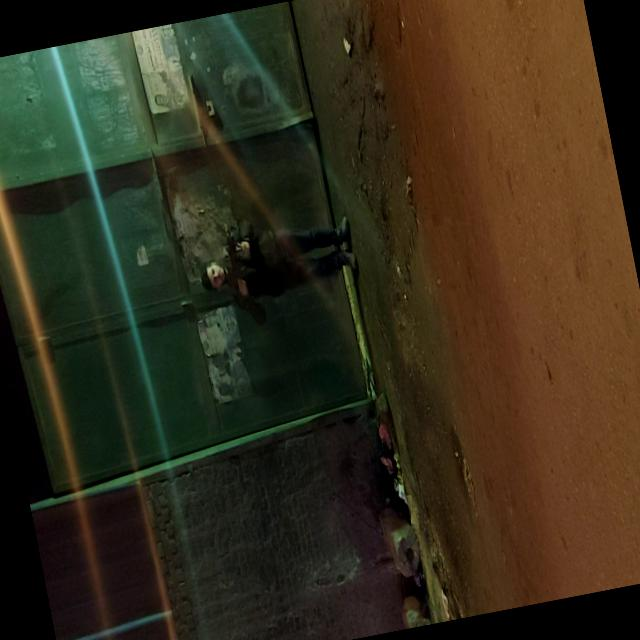long weapon: (213, 214, 266, 304)
